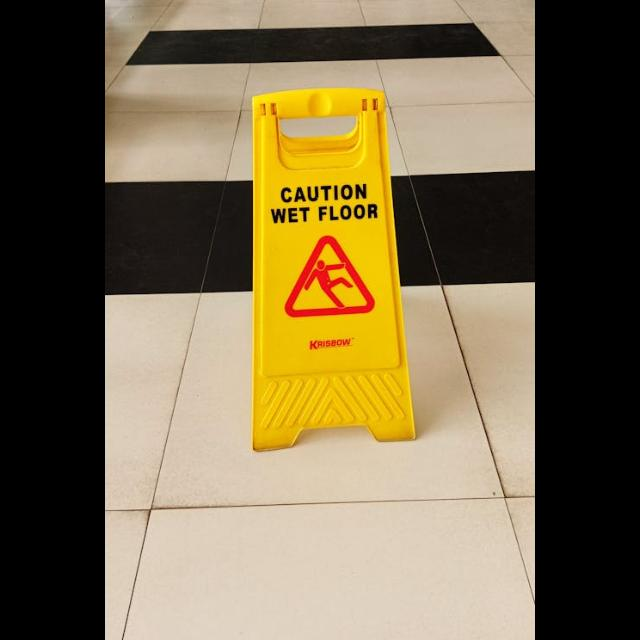slippery_floor: (253, 88, 414, 450)
